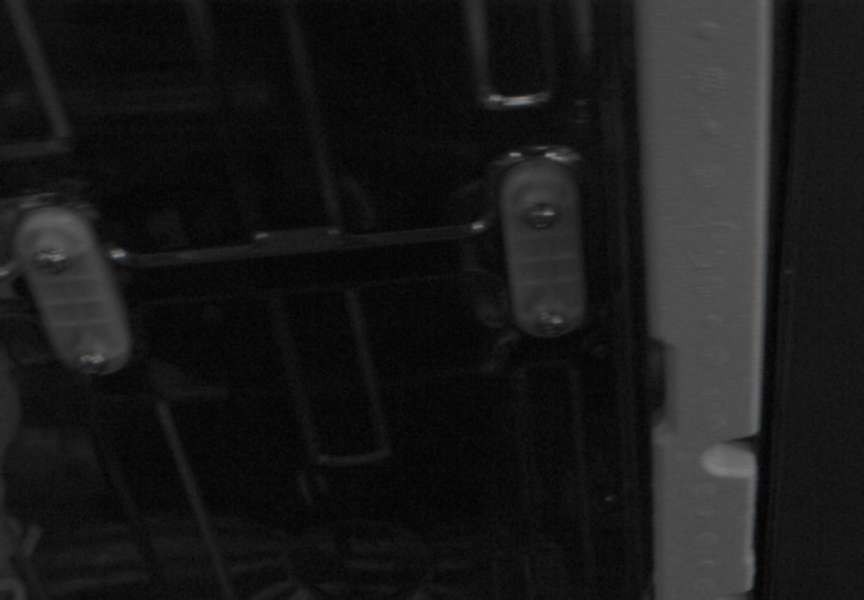screw: (522, 202, 560, 230), (32, 248, 69, 273), (536, 310, 570, 337), (77, 352, 107, 375)
